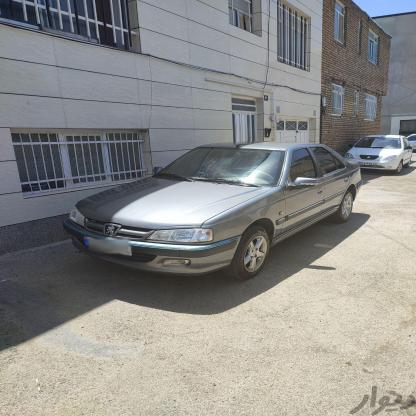Car: (57, 144, 366, 300), (341, 126, 416, 180)
